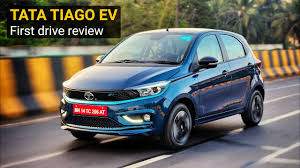Tiago: (59, 25, 267, 151)
